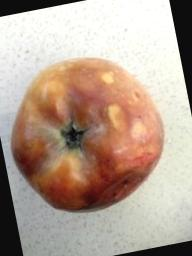Apple Rotten: (0, 40, 181, 226)
